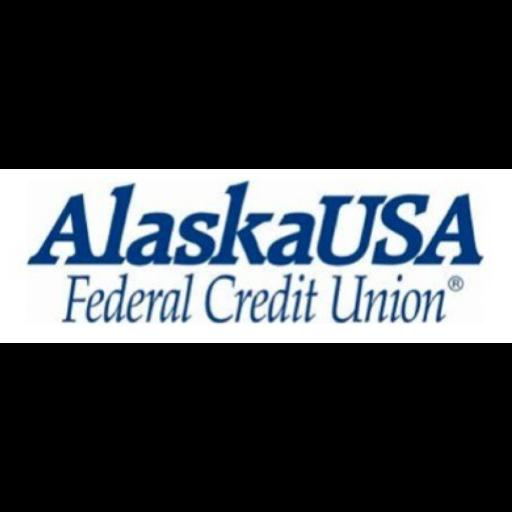Alaska USA Federal Credit Union: (0, 169, 512, 343)
